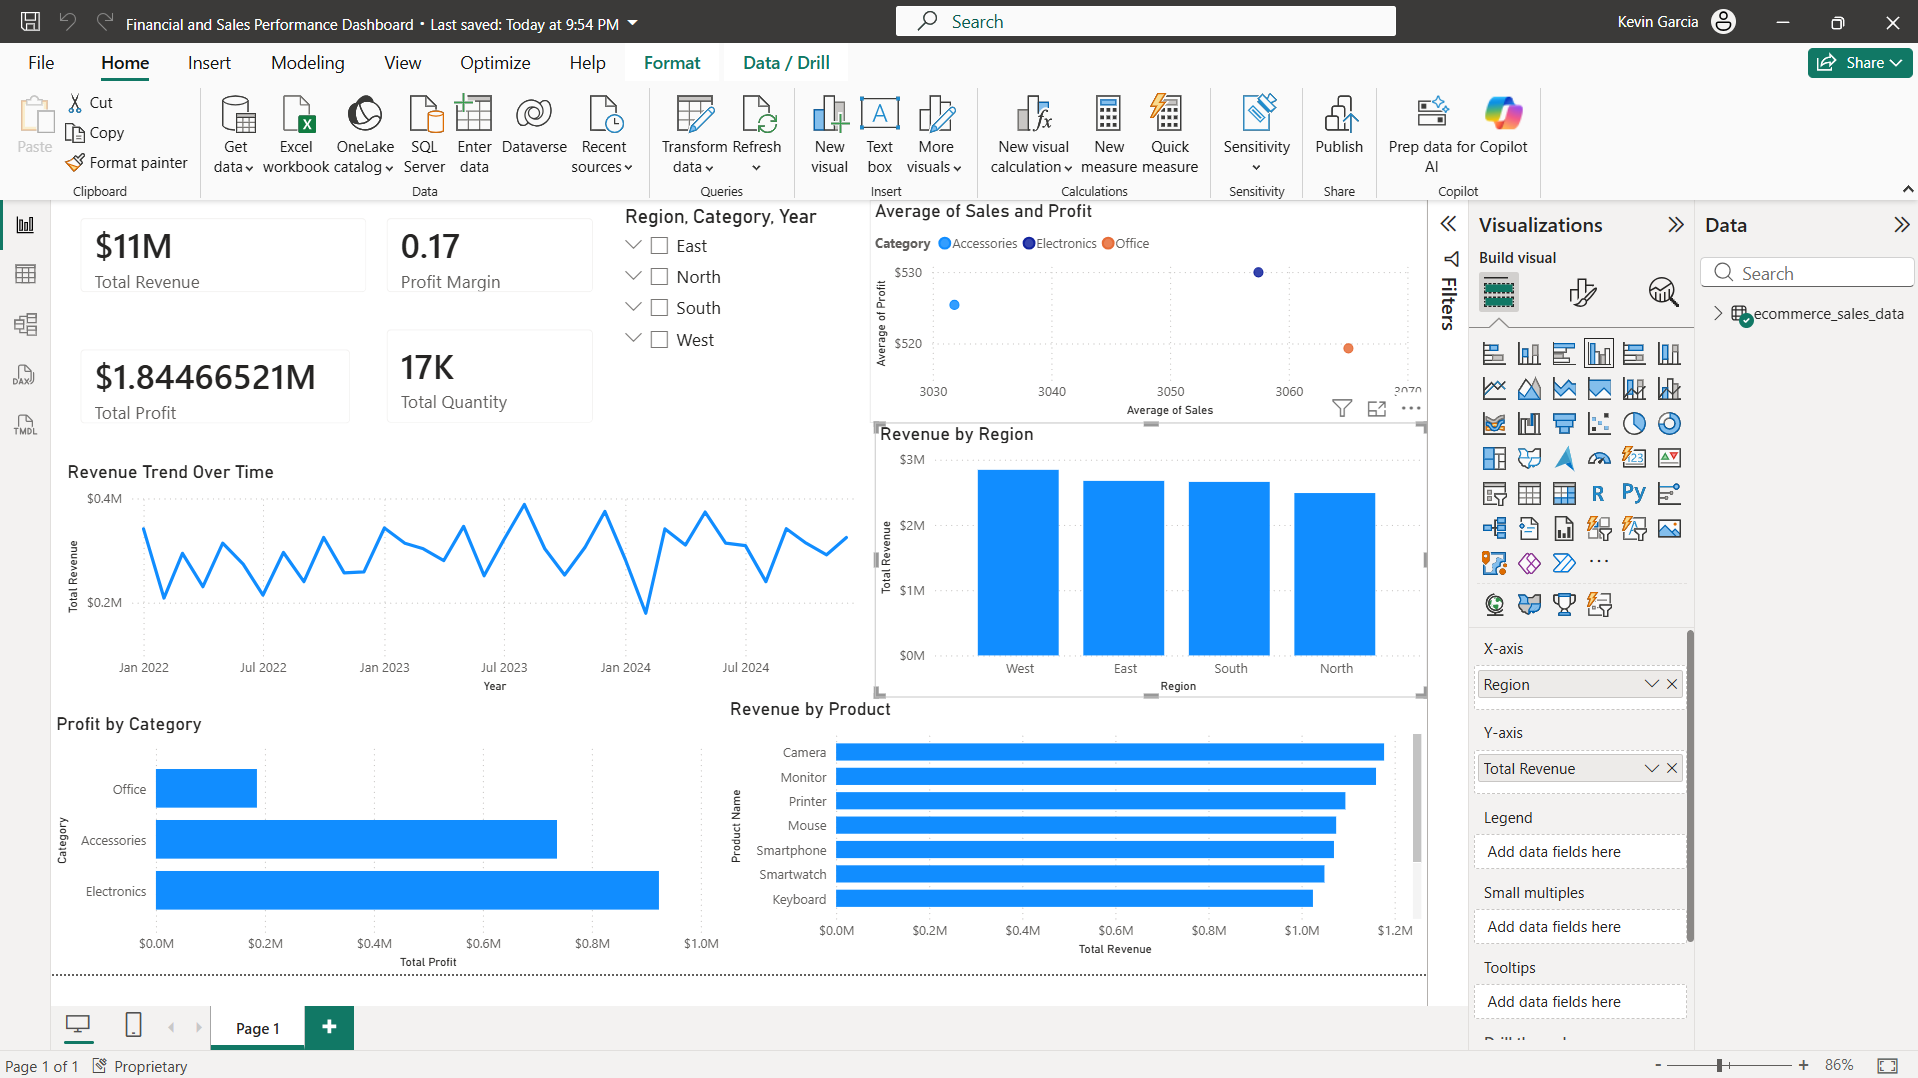

Layout of this report page (visuals, bound fields, positions):
{"tool":"powerbi","page":{"name":"Page 1","canvas":[1280,720],"ordinal":0},"visuals":[{"type":"cardVisual","fields":{"Data":["ecommerce_sales_data.Total Revenue"]},"box":[10,0,300,103.3],"z":0},{"type":"cardVisual","fields":{"Data":["ecommerce_sales_data.Total Profit"]},"box":[10,121.7,285,103.3],"z":1000},{"type":"cardVisual","fields":{"Data":["ecommerce_sales_data.Profit Margin"]},"box":[295,0,226.7,103.3],"z":2000},{"type":"cardVisual","fields":{"Data":["ecommerce_sales_data.Total Quantity"]},"box":[295,103.3,226.7,121.7],"z":3000},{"type":"lineChart","title":"Revenue Trend Over Time","fields":{"Y":["ecommerce_sales_data.Total Revenue"],"Category":["ecommerce_sales_data.Order Date.Variation.Date Hierarchy.Year","ecommerce_sales_data.Order Date.Variation.Date Hierarchy.Month"]},"box":[10,243.3,756.7,220],"z":4000},{"type":"clusteredBarChart","title":"Profit by Category","fields":{"Category":["ecommerce_sales_data.Category"],"Y":["ecommerce_sales_data.Total Profit"]},"box":[0,476.7,626.7,243.3],"z":5000},{"type":"clusteredColumnChart","title":"Revenue by Region","fields":{"Category":["ecommerce_sales_data.Region"],"Y":["ecommerce_sales_data.Total Revenue"]},"box":[766.7,206.7,513.3,256.7],"z":6000},{"type":"clusteredBarChart","title":"Revenue by Product ","fields":{"Category":["ecommerce_sales_data.Product Name"],"Y":["ecommerce_sales_data.Total Revenue"]},"box":[626.7,463.3,653.3,245],"z":7000},{"type":"scatterChart","title":"Average of Sales and Profit","fields":{"X":["Avg(ecommerce_sales_data.Sales)"],"Y":["Avg(ecommerce_sales_data.Profit)"],"Series":["ecommerce_sales_data.Category"]},"box":[761.7,0,518.3,206.7],"z":8000},{"type":"slicer","fields":{"Values":["ecommerce_sales_data.Region","ecommerce_sales_data.Category","ecommerce_sales_data.Year"]},"box":[521.2,0,240,241.2],"z":9000}]}

Visuals, with their boxes on the page's 1280x720 design canvas (x1, y1, x2, y2). These are canvas units, not pixel positions in the 1918x1078 screenshot, which may show the page scaled, cropped or inside an application window:
cardVisual - ecommerce_sales_data.Total Revenue: (10,0,310,103)
cardVisual - ecommerce_sales_data.Total Profit: (10,122,295,225)
cardVisual - ecommerce_sales_data.Profit Margin: (295,0,522,103)
cardVisual - ecommerce_sales_data.Total Quantity: (295,103,522,225)
"Revenue Trend Over Time" lineChart: (10,243,767,463)
"Profit by Category" clusteredBarChart: (0,477,627,720)
"Revenue by Region" clusteredColumnChart: (767,207,1280,463)
"Revenue by Product " clusteredBarChart: (627,463,1280,708)
"Average of Sales and Profit" scatterChart: (762,0,1280,207)
slicer - ecommerce_sales_data.Region x ecommerce_sales_data.Category: (521,0,761,241)
